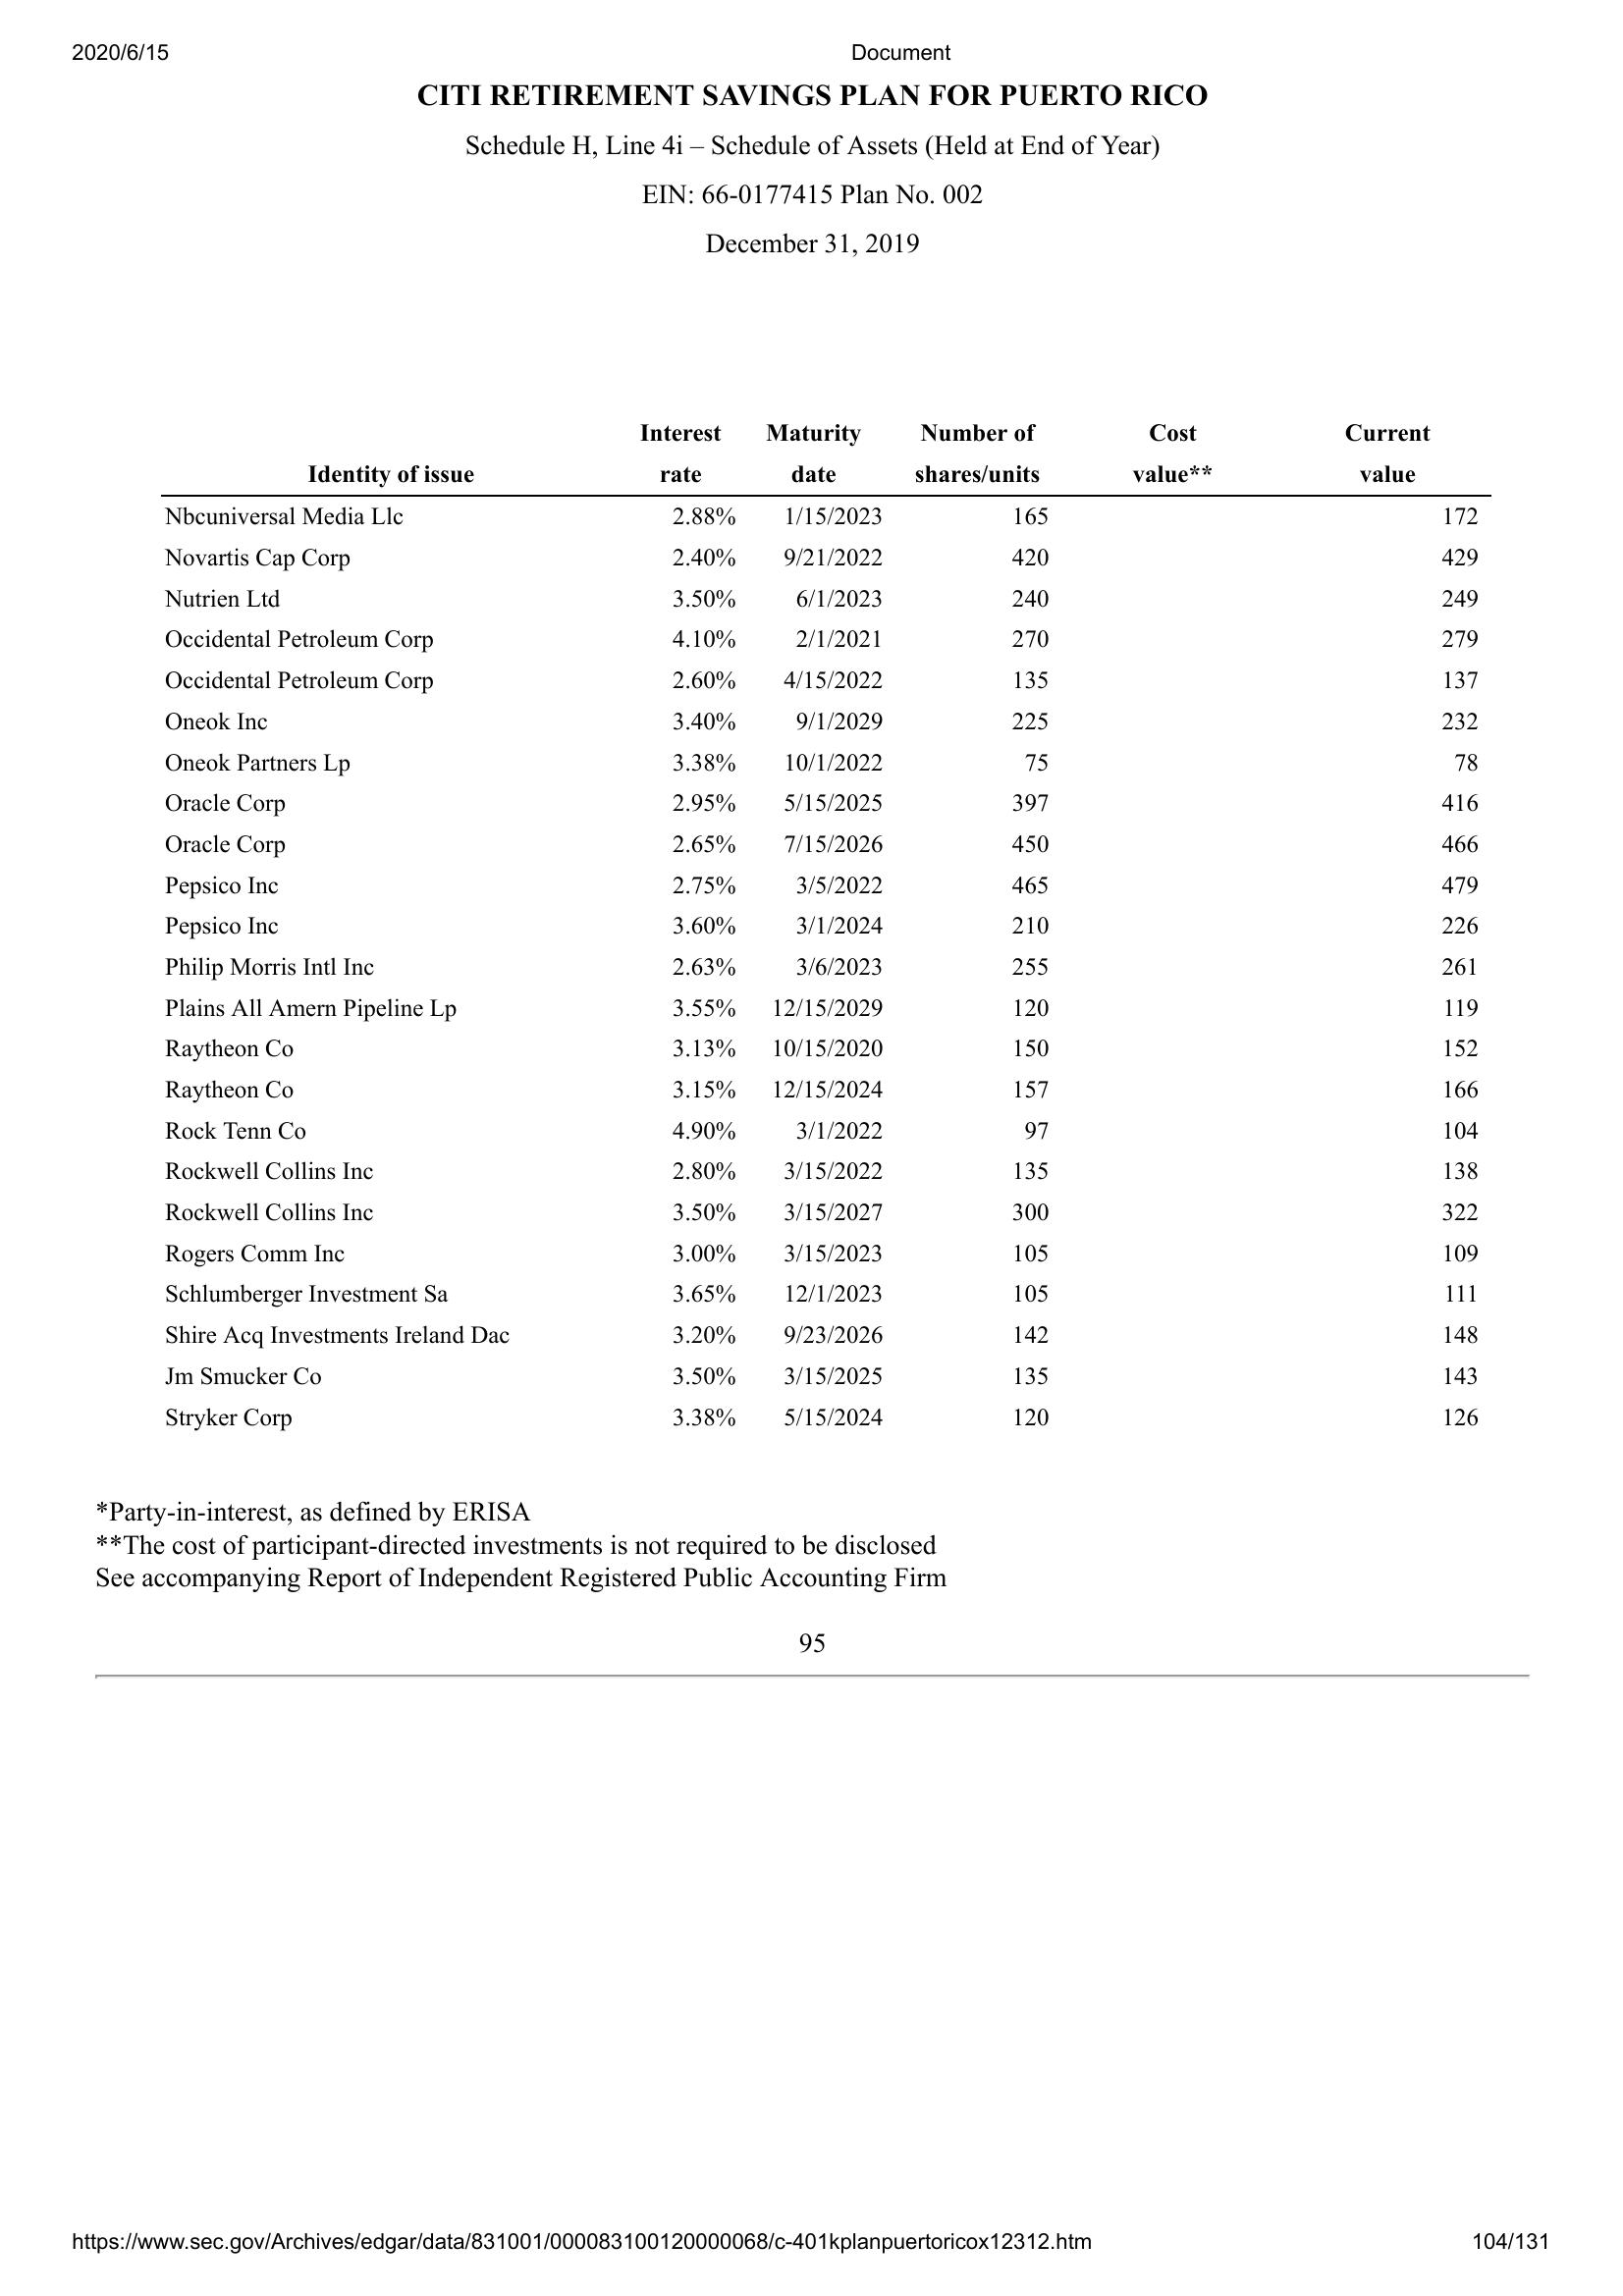table: (155, 418, 1490, 1436)
